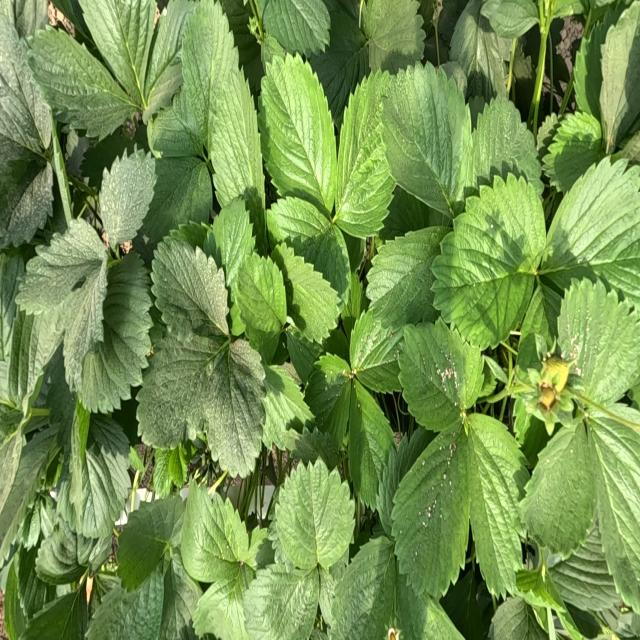Flowers: (386, 627, 400, 639)
Leaves: (433, 174, 546, 349), (180, 0, 262, 206), (57, 240, 152, 412), (382, 63, 476, 219), (392, 430, 468, 596), (260, 55, 336, 210), (28, 27, 135, 136), (588, 404, 639, 614), (544, 157, 639, 268), (467, 415, 525, 594), (558, 279, 639, 407), (137, 326, 222, 447), (334, 71, 395, 235), (522, 421, 597, 554), (399, 320, 483, 430), (272, 459, 354, 570), (16, 219, 108, 313), (268, 196, 350, 301), (202, 339, 264, 477), (60, 419, 130, 539), (367, 227, 447, 330), (0, 2, 51, 154), (152, 238, 228, 337), (550, 521, 619, 630), (309, 9, 370, 127), (330, 536, 396, 638), (181, 482, 247, 583), (243, 553, 318, 639), (1, 425, 58, 538), (117, 492, 184, 588), (272, 246, 339, 342), (472, 97, 541, 188), (143, 154, 211, 246), (85, 560, 165, 638), (347, 381, 395, 510), (575, 4, 627, 120), (376, 429, 430, 539), (448, 1, 507, 101), (600, 1, 639, 149), (233, 253, 287, 359), (2, 310, 63, 400), (99, 147, 155, 244), (144, 0, 195, 106), (1, 146, 51, 246), (396, 571, 465, 639), (347, 308, 402, 391), (35, 524, 111, 584), (305, 353, 352, 450), (80, 123, 148, 190), (362, 0, 424, 73), (546, 112, 603, 191), (262, 365, 314, 449), (192, 565, 249, 639), (261, 0, 330, 57), (517, 283, 562, 369), (160, 548, 201, 639), (147, 92, 203, 158), (212, 198, 254, 285), (21, 590, 87, 639), (45, 360, 76, 451), (19, 547, 56, 620), (0, 252, 25, 359), (489, 596, 547, 639), (513, 399, 550, 466), (152, 441, 195, 498), (482, 1, 538, 39), (293, 426, 339, 470), (287, 329, 321, 384), (4, 560, 25, 639), (342, 273, 362, 327)
Strawberries: (542, 359, 569, 393), (540, 388, 555, 408)
